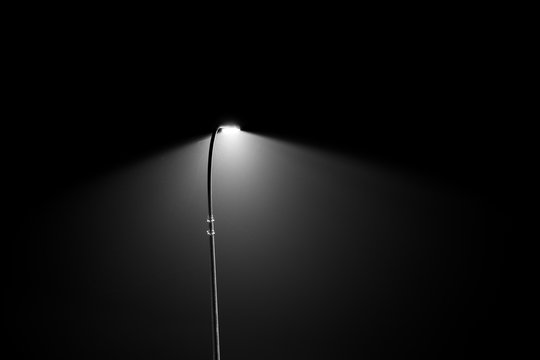Lamp: (157, 104, 290, 360)
